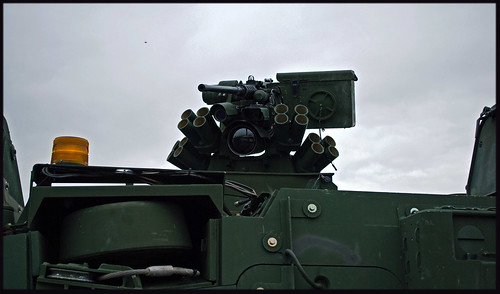sky: (1, 1, 180, 150), (349, 1, 467, 174)
weapon: (168, 54, 367, 188)
